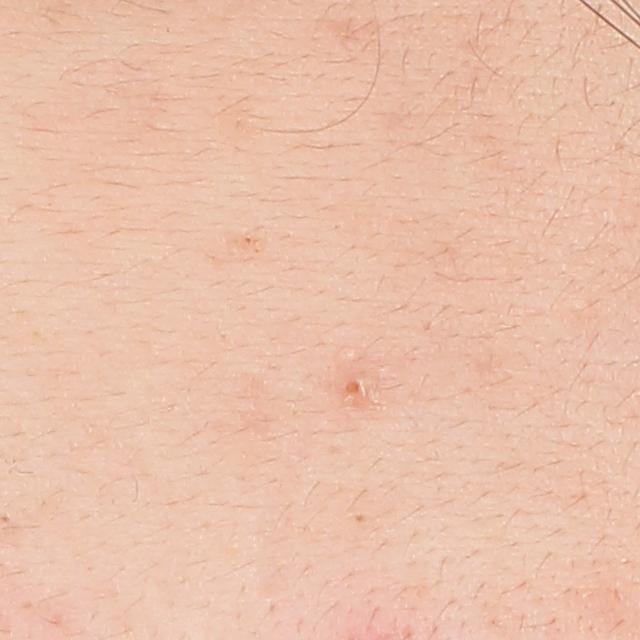comedo: (340, 373, 374, 401), (353, 512, 367, 527)
